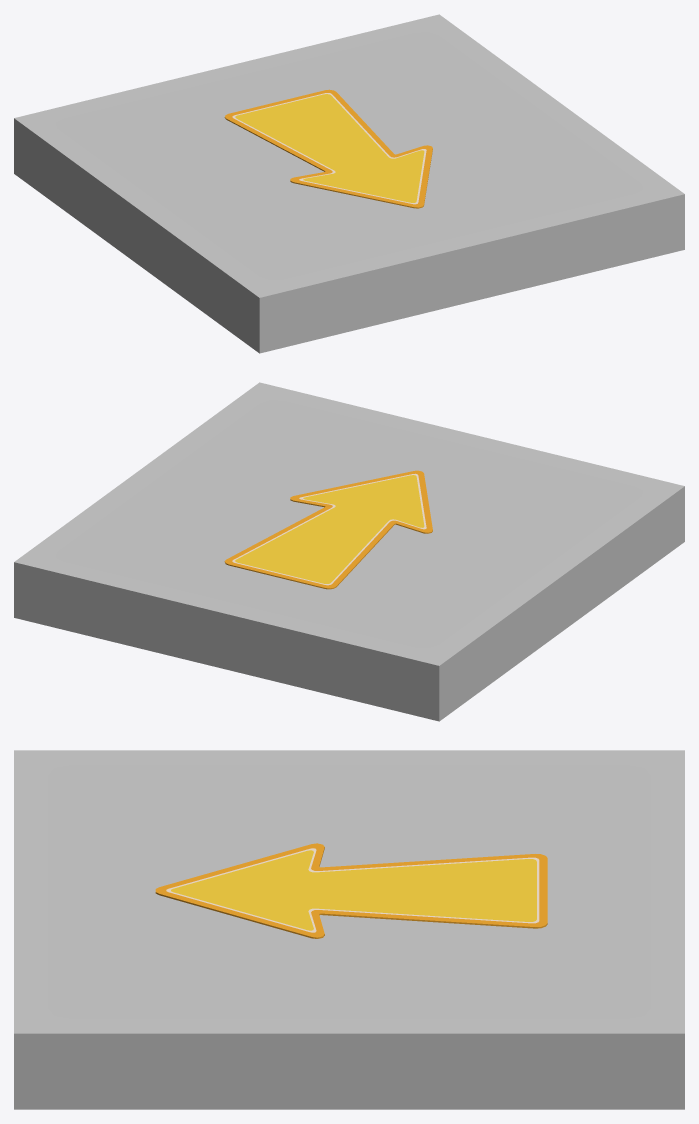
The model's file is PlatformStart.fbx.
3 views of the same model, one above another, from view 1: azimuth 30°, elevation 25°; view 2: azimuth 150°, elevation 25°; view 3: azimuth 270°, elevation 25° (orthographic). The views are drawn at different scales.
Visible parts, largest first — view 1: PlatformStart; view 2: PlatformStart; view 3: PlatformStart.
Part boxes in pixels (x1,y1,x2,y2): PlatformStart: (14,14,684,353); PlatformStart: (14,382,684,721); PlatformStart: (14,750,684,1109).
Bounding box in the file's own units: 800 × 102 × 800.
